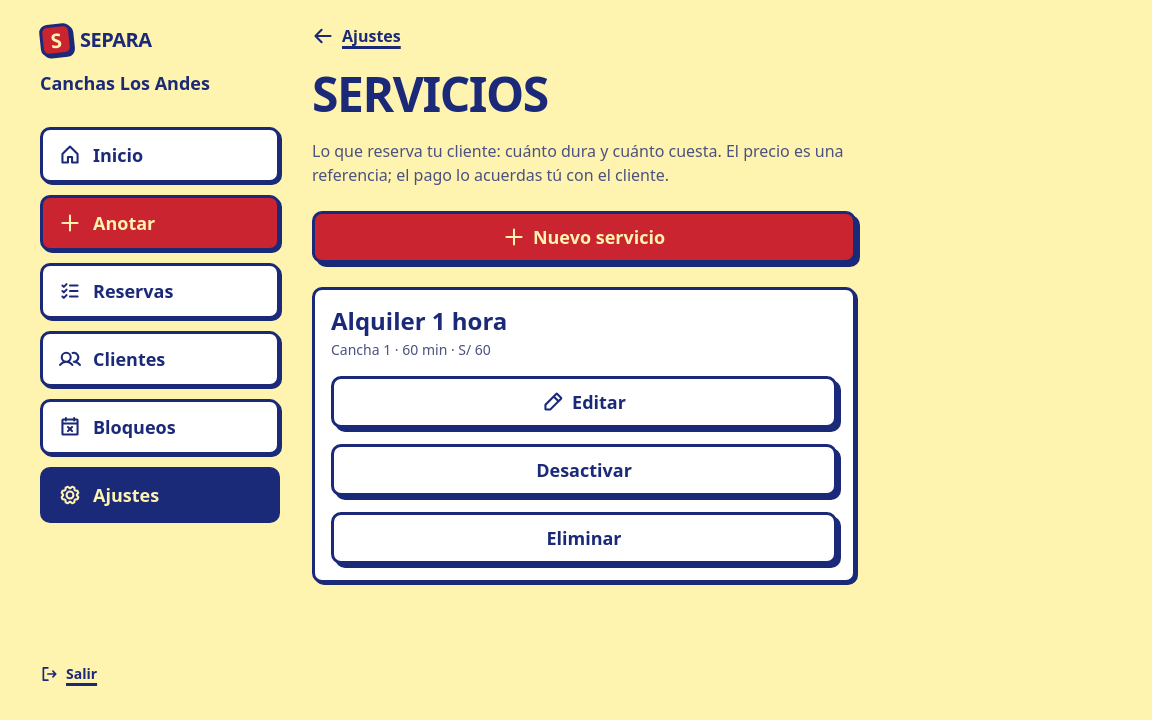
Test: changing a service › explains that a service with bookings is deactivated instead of deleted
Click the button "Eliminar" at (584, 538), box [331,512,837,564]
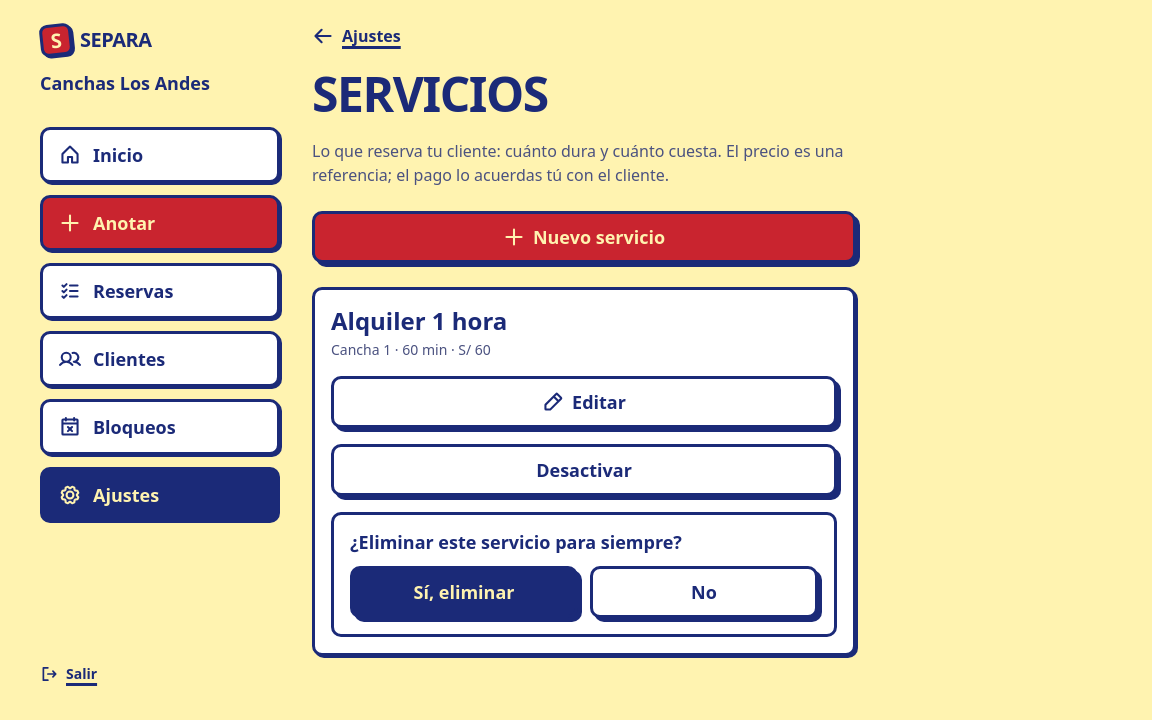
Click the button "Sí, eliminar" at (464, 592), box [350,566,578,618]
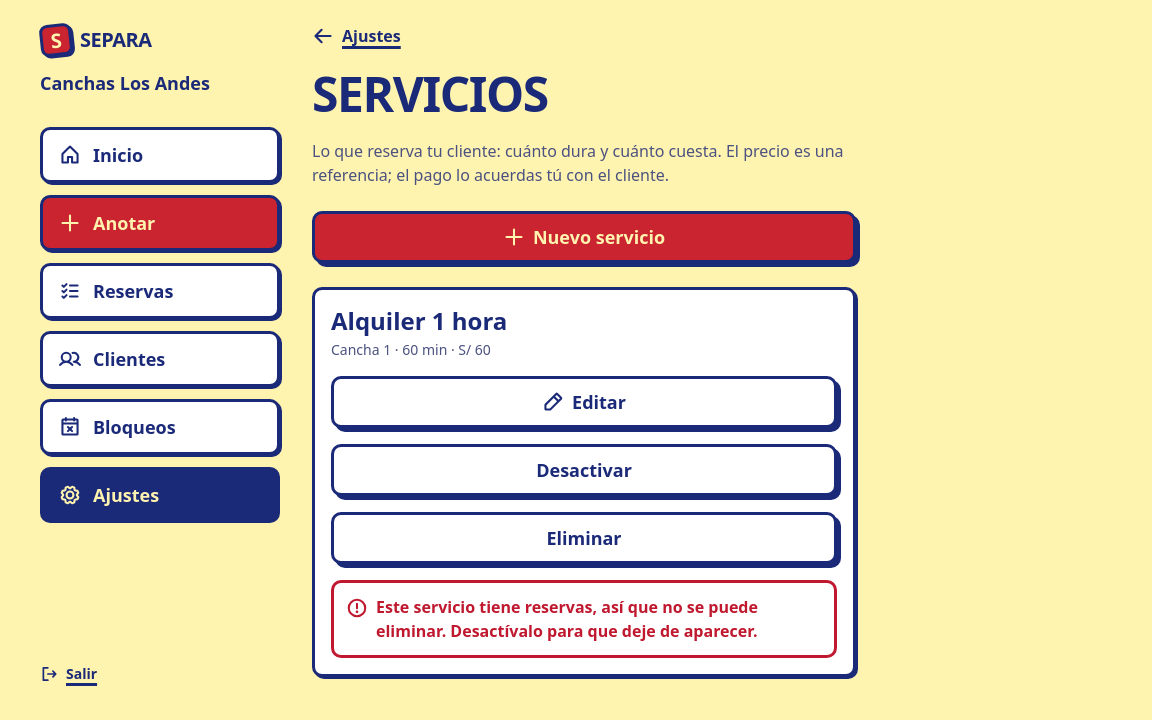
Check: the message shows "Desactívalo", box [376,596,758,642]
